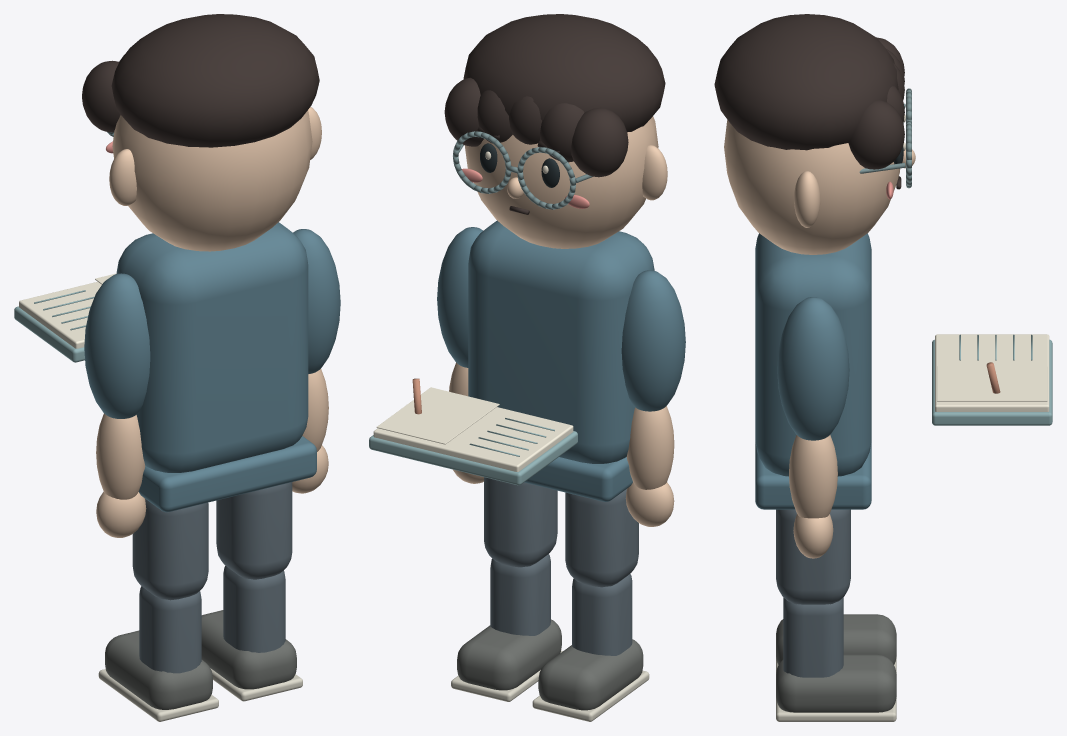
File: student_solver.glb
The picture shows the model from 3 angles, left to right: view 1: azimuth 30°, elevation 25°; view 2: azimuth 150°, elevation 25°; view 3: azimuth 270°, elevation 25°; orthographic projection. The views are drawn at different scales.
Visible parts, largest first — view 1: StudentSolverHem, StudentSolverBrow, StudentSolverEar, StudentSolverSleeve, StudentSolverThigh, StudentSolverThigh.001, StudentSolverForearm, StudentSolverShin, StudentSolverShin.001, StudentSolverShoe, StudentSolverShoe.001, StudentSolverSleeve.001 (+5 smaller); view 2: StudentSolverHem, StudentSolverBrow, StudentSolverEar, StudentSolverSleeve, StudentSolverThigh, StudentSolverThigh.001, StudentSolverPages, StudentSolverShoe, StudentSolverForearm, StudentSolverShoe.001, StudentSolverShin, StudentSolverShin.001 (+8 smaller); view 3: StudentSolverBrow, StudentSolverHem, StudentSolverEar, StudentSolverSleeve.001, StudentSolverShoe.001, StudentSolverThigh.001, StudentSolverPages, StudentSolverForearm.001, StudentSolverShin.001, StudentSolverTurnPage, StudentSolverShoe, StudentSolverCover (+2 smaller).
Boxes of the visible parts, bbox=[...] form: StudentSolverHem: bbox=[116, 222, 316, 512]; StudentSolverBrow: bbox=[82, 14, 319, 147]; StudentSolverEar: bbox=[109, 107, 321, 251]; StudentSolverSleeve: bbox=[84, 273, 150, 418]; StudentSolverThigh: bbox=[132, 499, 208, 600]; StudentSolverThigh.001: bbox=[216, 482, 292, 579]; StudentSolverForearm: bbox=[96, 413, 146, 537]; StudentSolverShin: bbox=[139, 586, 201, 673]; StudentSolverShin.001: bbox=[223, 566, 285, 652]; StudentSolverShoe: bbox=[105, 630, 212, 709]; StudentSolverShoe.001: bbox=[201, 610, 296, 689]; StudentSolverSleeve.001: bbox=[293, 229, 340, 373]; StudentSolverHem: bbox=[468, 220, 654, 501]; StudentSolverBrow: bbox=[444, 14, 665, 214]; StudentSolverEar: bbox=[464, 116, 667, 248]; StudentSolverSleeve: bbox=[621, 270, 685, 411]; StudentSolverThigh: bbox=[565, 489, 638, 587]; StudentSolverThigh.001: bbox=[484, 477, 557, 567]; StudentSolverPages: bbox=[373, 407, 573, 471]; StudentSolverShoe: bbox=[538, 639, 643, 710]; StudentSolverForearm: bbox=[625, 406, 674, 526]; StudentSolverShoe.001: bbox=[457, 619, 561, 690]; StudentSolverShin: bbox=[572, 574, 632, 655]; StudentSolverShin.001: bbox=[490, 554, 550, 635]; StudentSolverBrow: bbox=[714, 14, 904, 189]; StudentSolverHem: bbox=[755, 233, 871, 509]; StudentSolverEar: bbox=[724, 120, 915, 254]; StudentSolverSleeve.001: bbox=[777, 297, 849, 440]; StudentSolverShoe.001: bbox=[776, 654, 896, 712]; StudentSolverThigh.001: bbox=[776, 509, 850, 604]; StudentSolverPages: bbox=[935, 334, 1049, 411]; StudentSolverForearm.001: bbox=[789, 435, 837, 558]; StudentSolverShin.001: bbox=[783, 598, 843, 677]; StudentSolverTurnPage: bbox=[937, 366, 1047, 401]; StudentSolverShoe: bbox=[776, 614, 896, 664]; StudentSolverCover: bbox=[932, 334, 1052, 425].
Bounding box in the file's own units: 0.676 × 1.75 × 0.813.
